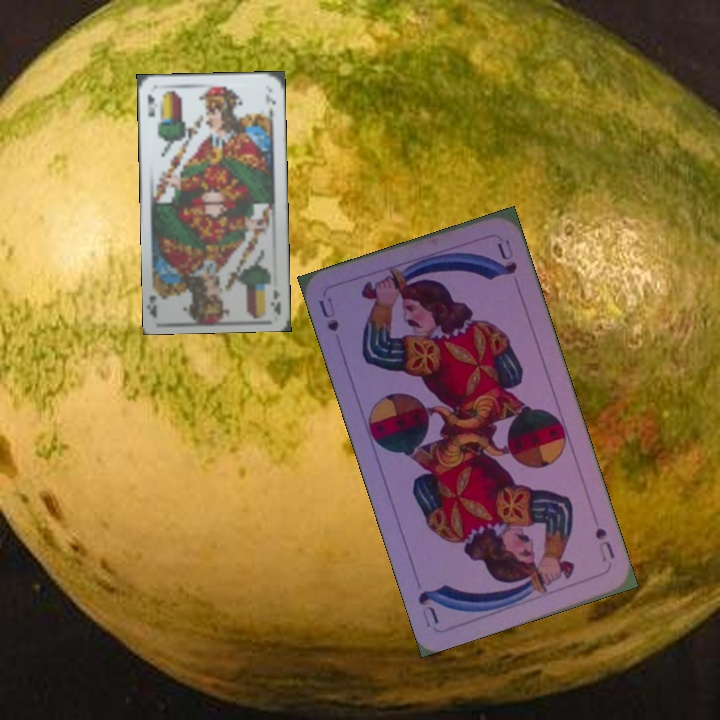EK: (267, 285, 284, 315), (143, 91, 158, 120)
SU: (591, 523, 618, 565), (315, 293, 342, 334)
